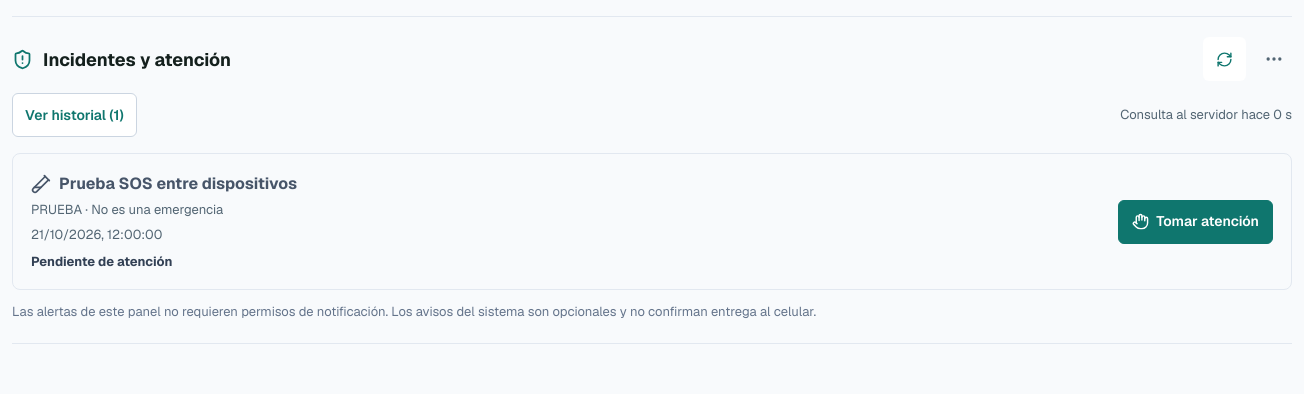
Test: takes attention using the server revision
Click the button "Tomar atención": x=1196, y=222 [1118,200,1273,244]
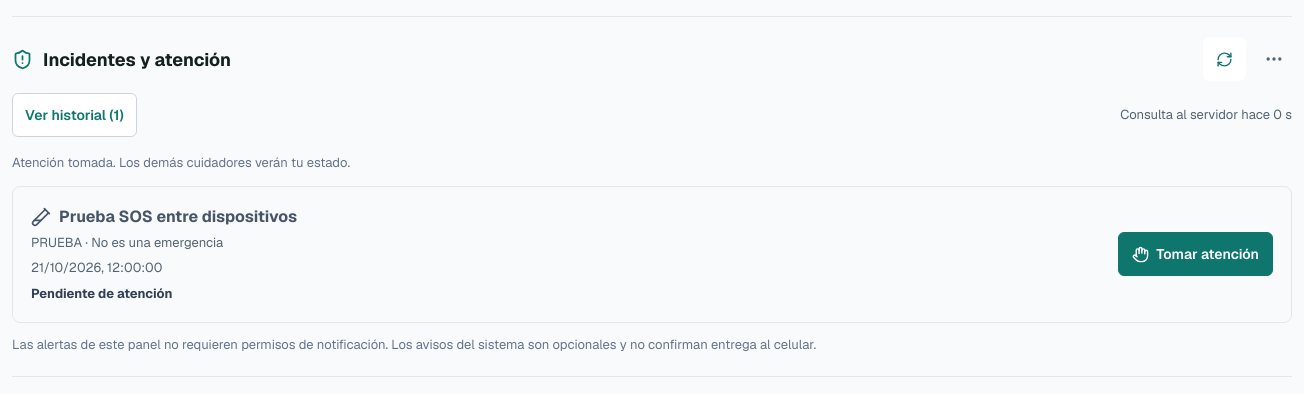
Expected: the text "Atención tomada. Los demás cuidadores verán tu estado." is shown, [12,154,350,171]
